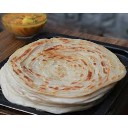parota: (8, 37, 125, 92)
